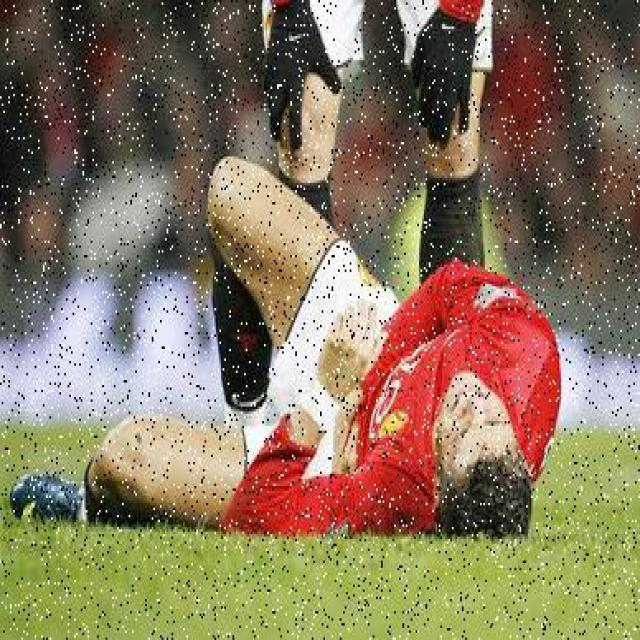fall: (79, 156, 538, 532)
